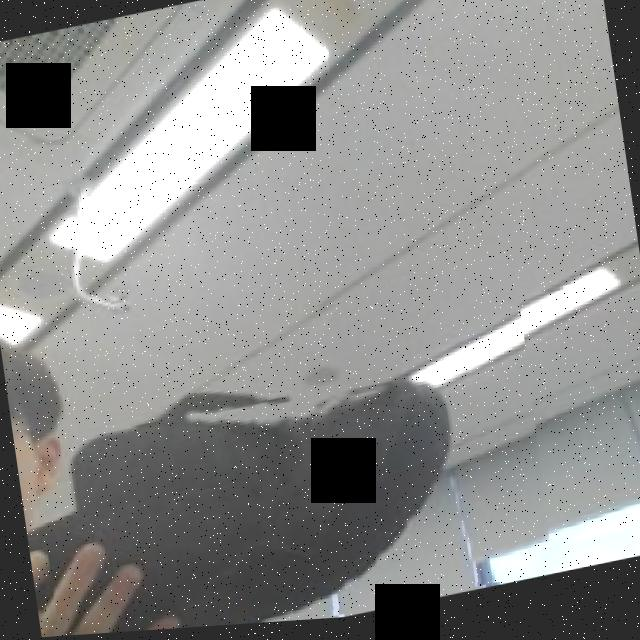shoe: (21, 267, 558, 639)
